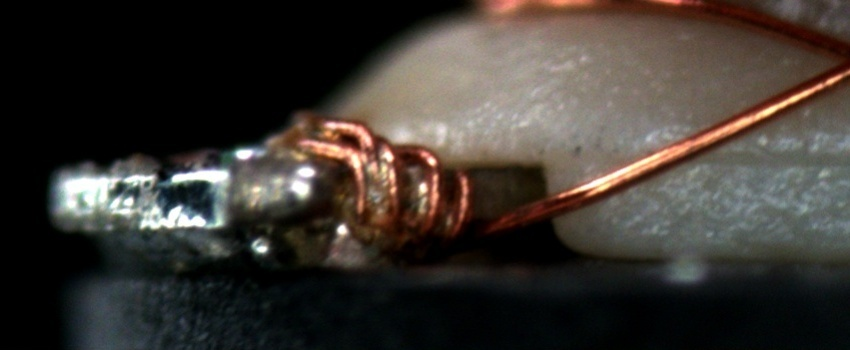CL: (807, 25, 850, 92)
DL: (696, 125, 849, 188)
TE: (290, 109, 479, 248)
